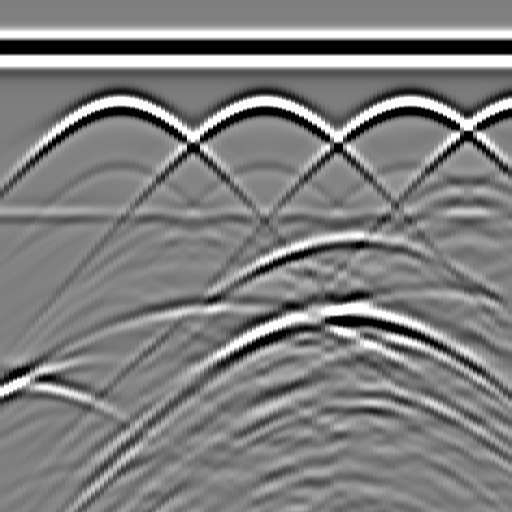grout_surface: (1, 202, 512, 232)
rebar: (98, 85, 138, 125), (243, 85, 283, 125), (387, 85, 427, 125), (502, 85, 512, 125)
rock_surface: (1, 291, 511, 389)
water_void: (317, 214, 377, 254)
